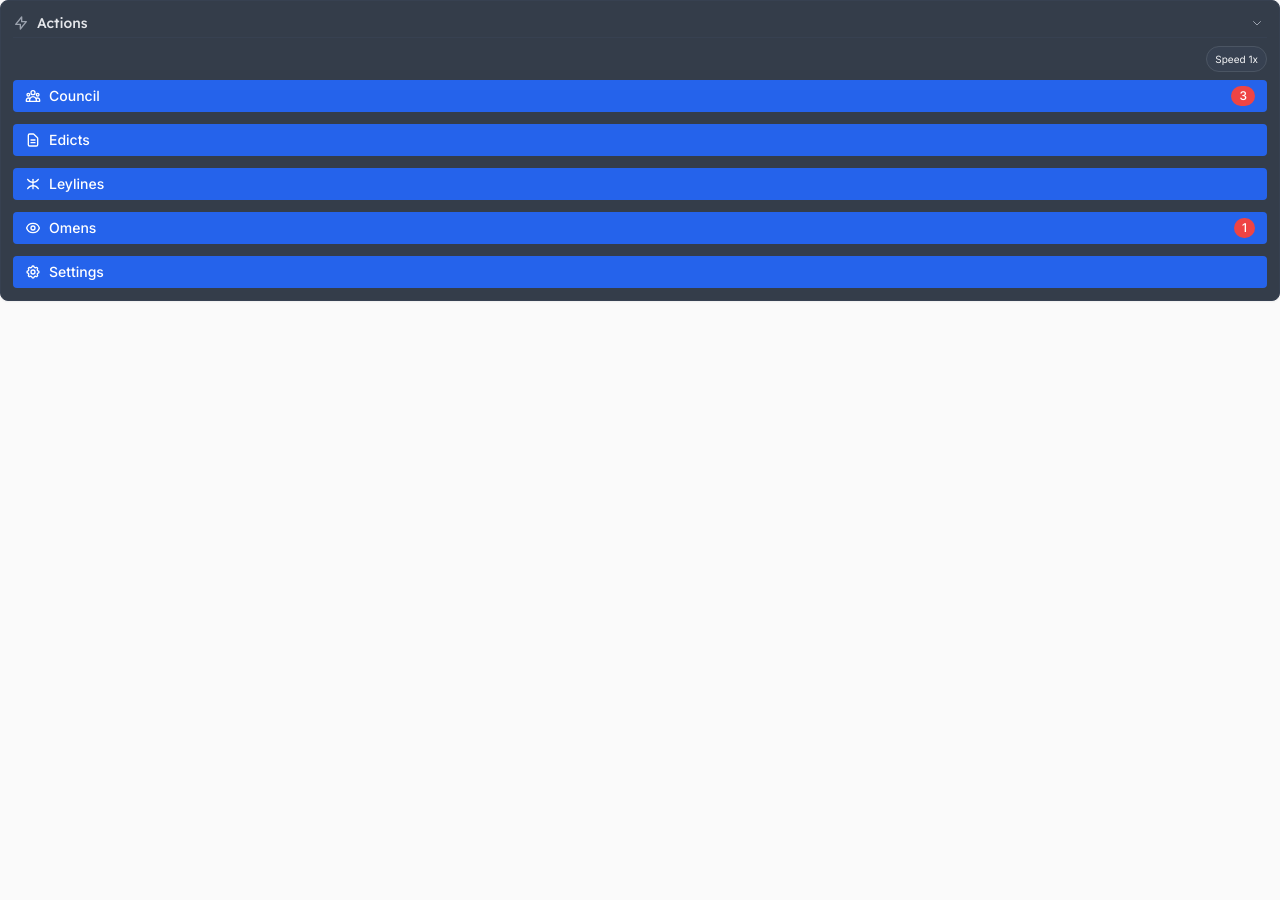
Test: ModularActionPanel omens integration › opens the omen panel when the Omens button is clicked
The image size is (1280, 900).
expect the text "Omen Readings" is not shown: met
Click the button "Omens 1" at [73, 228], box [13,212,1267,244]
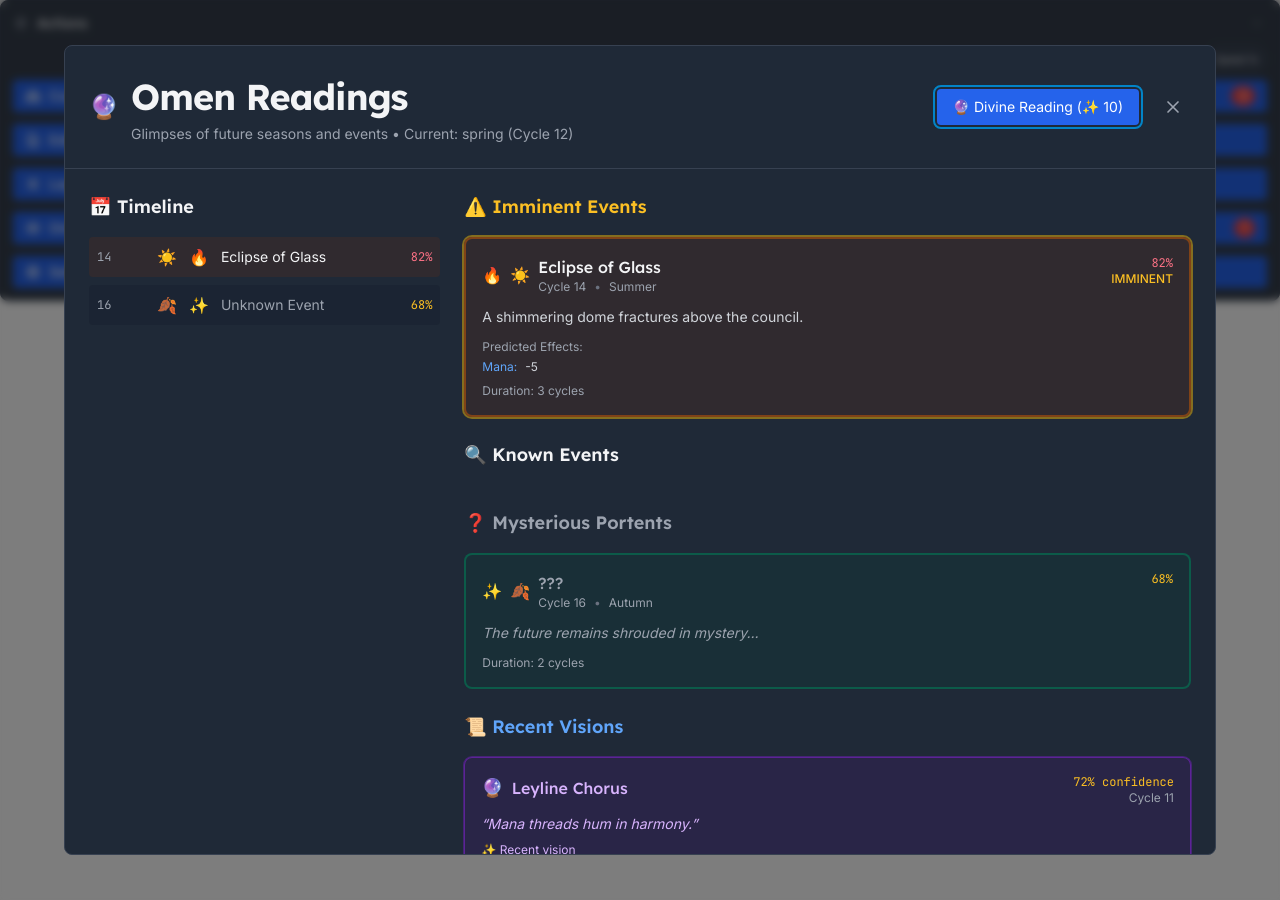
expect the heading "Omen Readings" is shown: met, box [131,74,407,119]
expect the text "Eclipse of Glass" is shown: met, box [221,248,326,265]
expect the heading "Leyline Chorus" is shown: met, box [512,776,628,800]
